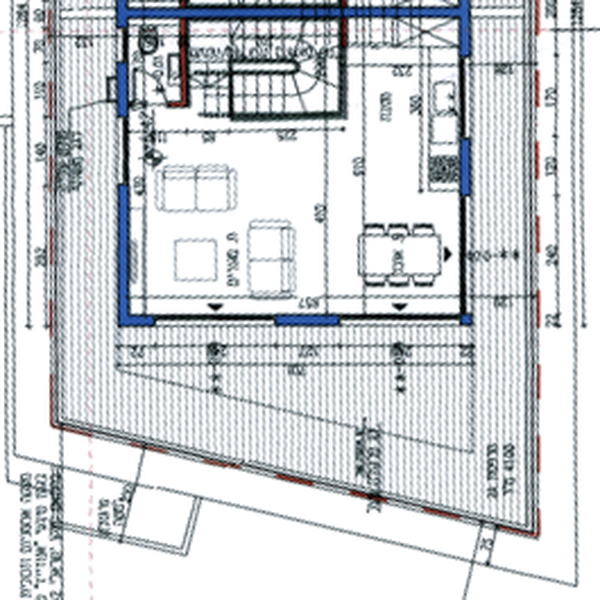room: (116, 10, 474, 325)
